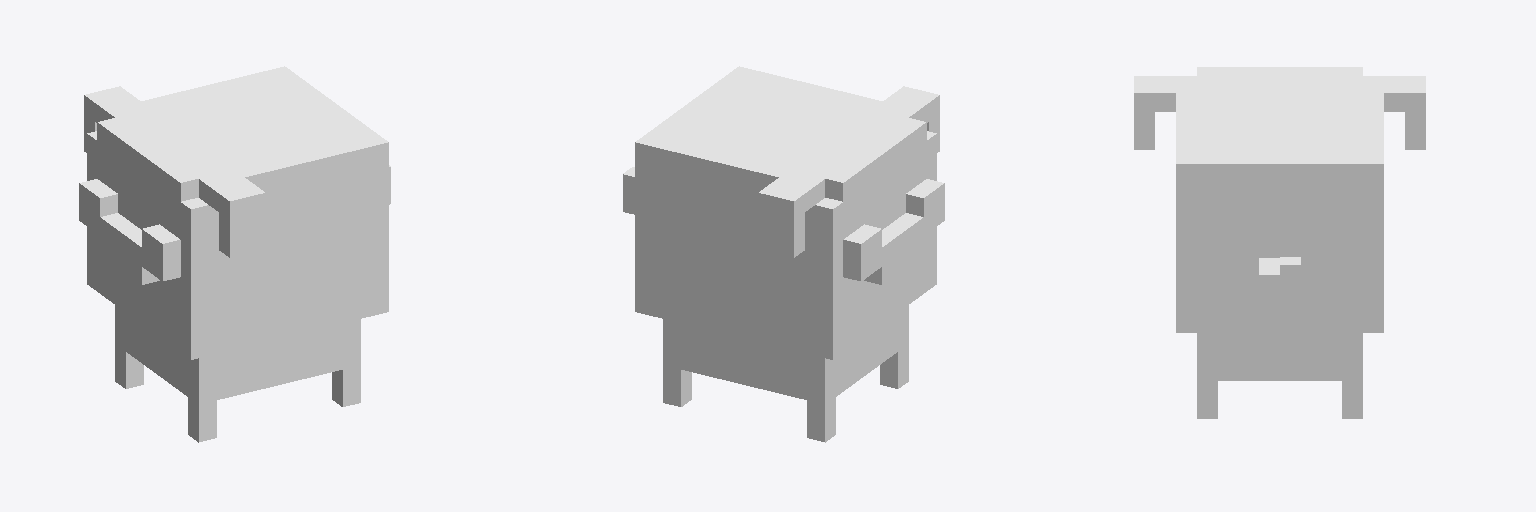
The model's file is mops_001.obj.
3 views of the same model, side by side, from view 1: azimuth 30°, elevation 25°; view 2: azimuth 150°, elevation 25°; view 3: azimuth 270°, elevation 25° (orthographic).
Visible parts, largest first — view 1: mops_001; view 2: mops_001; view 3: mops_001.
Part boxes in pixels (x1,y1,x2,y2): mops_001: (79, 66, 390, 442); mops_001: (623, 66, 944, 442); mops_001: (1134, 67, 1425, 418).
Size of the model in its own units: 1.5 by 1.4 by 1.4.